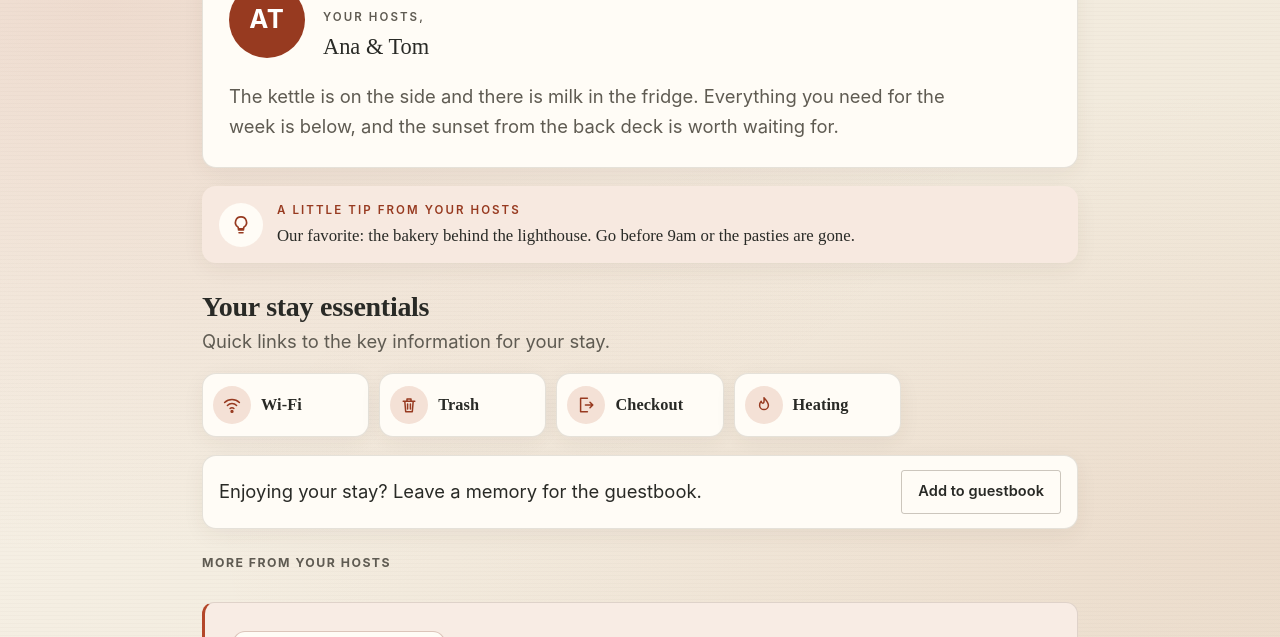
it: first UI slices › keeps house guidance off the public wall and on the in-stay wall
(page scrolled)
expect the text "SEABREEZE-5G / sandcastle42" is not shown: met
What coordinates should you click on to do the following:
click the button "Wi-Fi"
I would click on:
 (286, 405)
Its box is top-left (202, 373), bottom-right (369, 437).
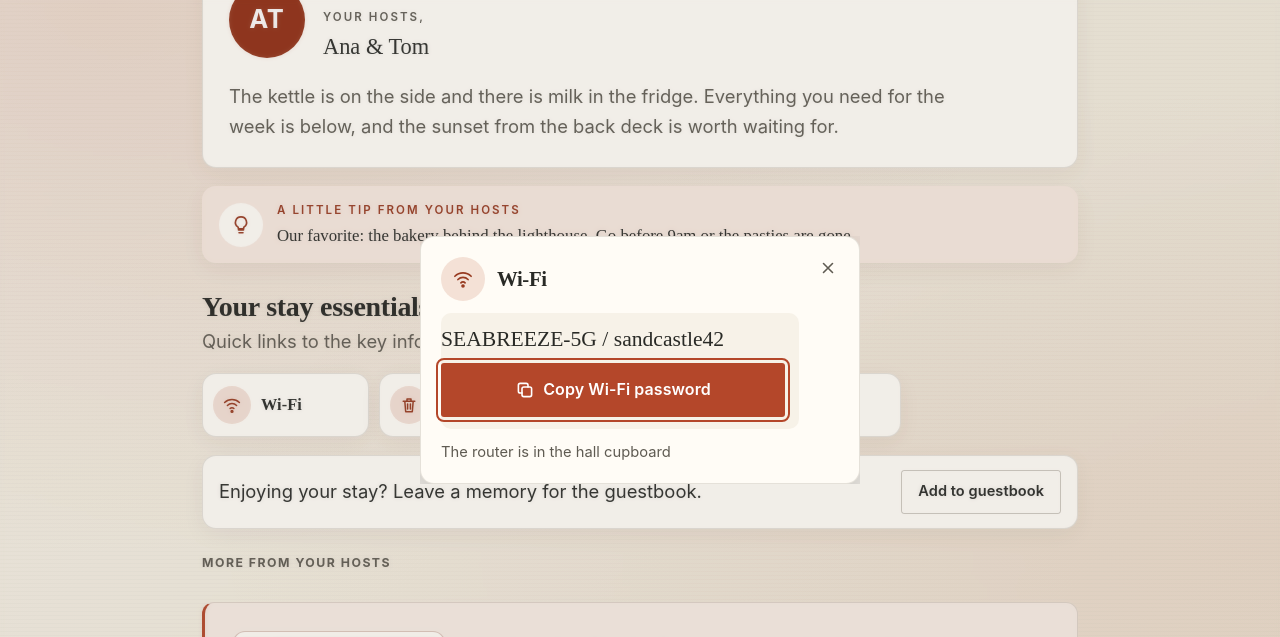
expect the dialog "Wi-Fi" shows "SEABREEZE-5G / sandcastle42": met, box top-left (441, 327), bottom-right (724, 351)
